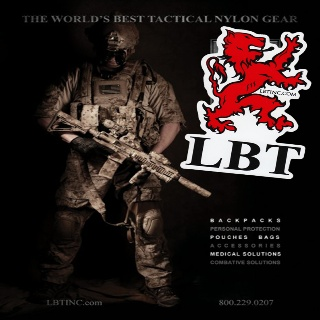rifle: (46, 109, 211, 202)
